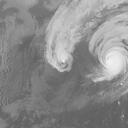cyclone: (100, 44, 127, 74)
